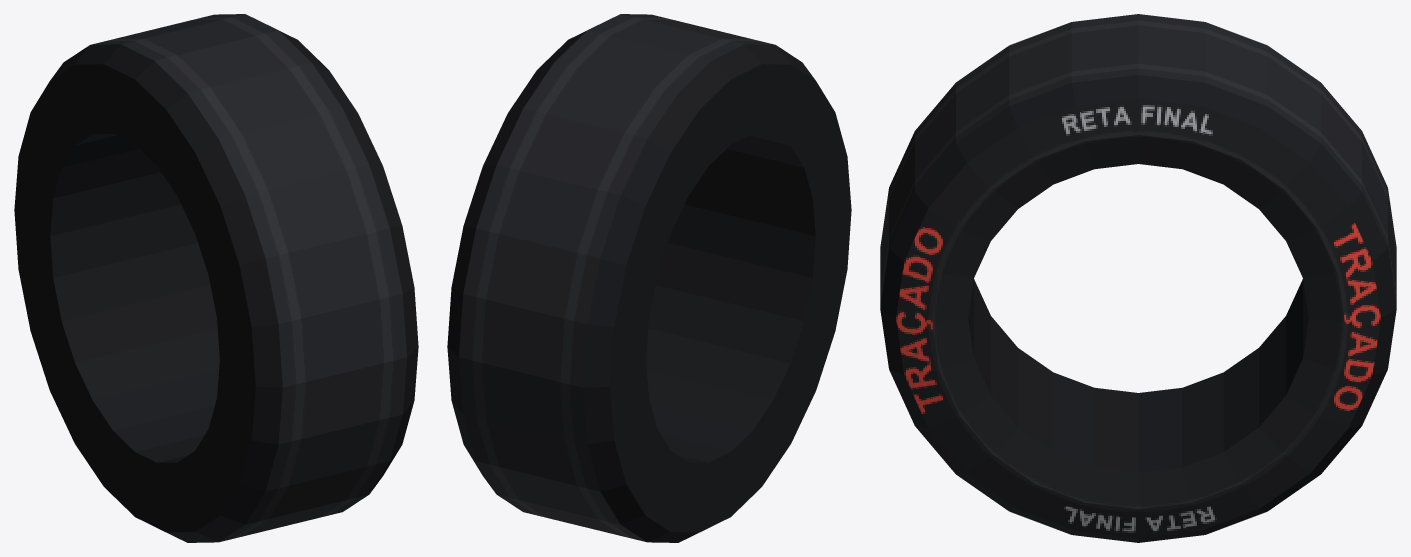
File: tracado_reta_final.glb
The picture shows the model from 3 angles, left to right: view 1: azimuth 30°, elevation 25°; view 2: azimuth 150°, elevation 25°; view 3: azimuth 270°, elevation 25°; orthographic projection.
Visible parts, largest first — view 1: tracado_reta_final; view 2: tracado_reta_final; view 3: tracado_reta_final.
Boxes of the visible parts, left/top/right/bottom form: tracado_reta_final: left=14, top=14, right=418, bottom=542; tracado_reta_final: left=447, top=14, right=851, bottom=542; tracado_reta_final: left=880, top=14, right=1396, bottom=542.
Bounding box in the file's own units: 0.2474 × 0.6468 × 0.6468.
Materials: 1 (1 with a texture image).
